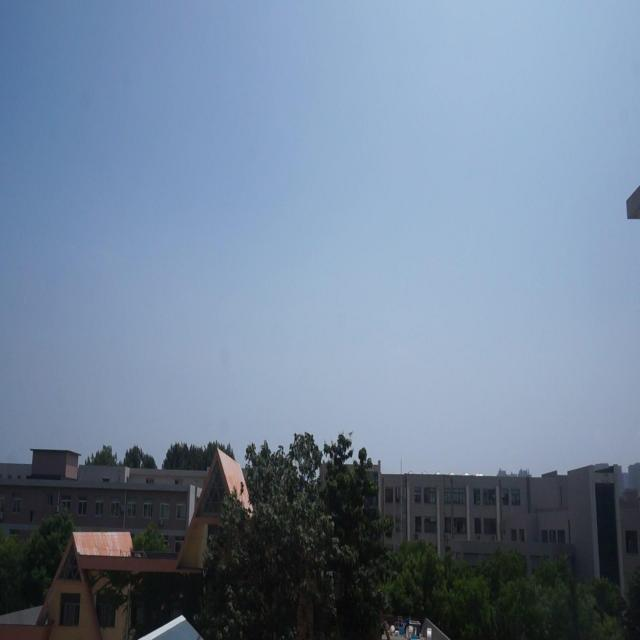UAV: (347, 432, 354, 438)
